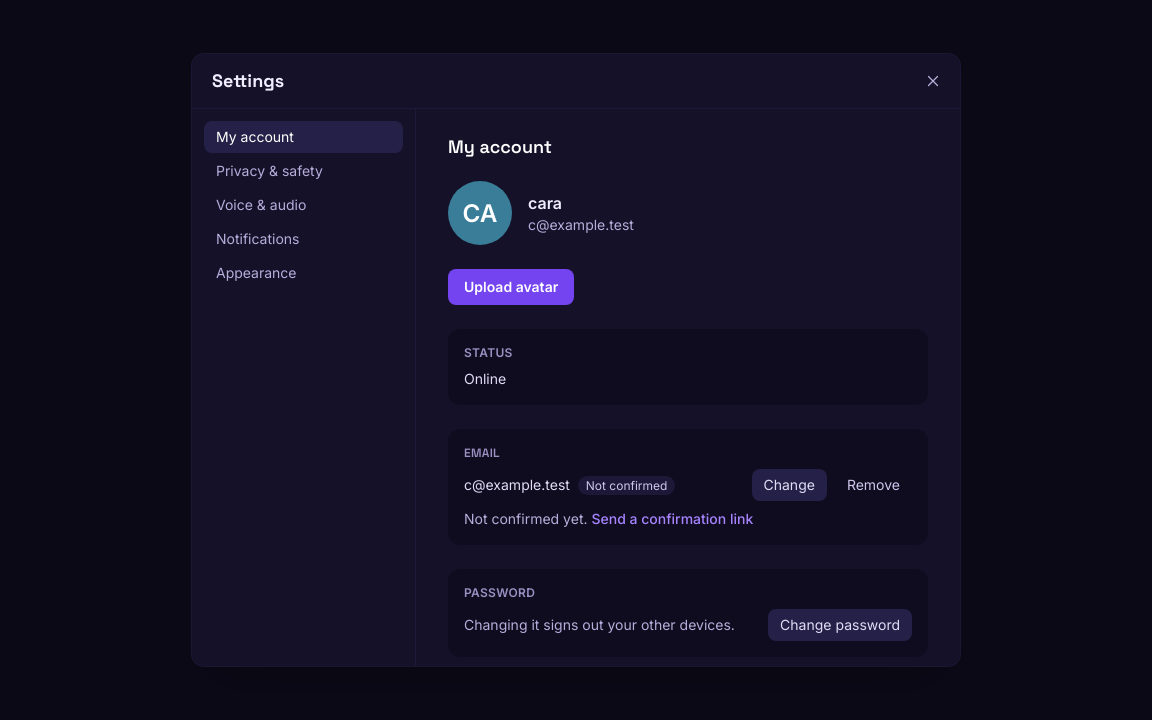
My account has a Change password button that opens the dialog
Expected: the text "Changing it signs out your other devices." is shown, 464,615 -> 756,635
Step 1. Click the button "Change password" → (840, 625), box 768,609 -> 912,641
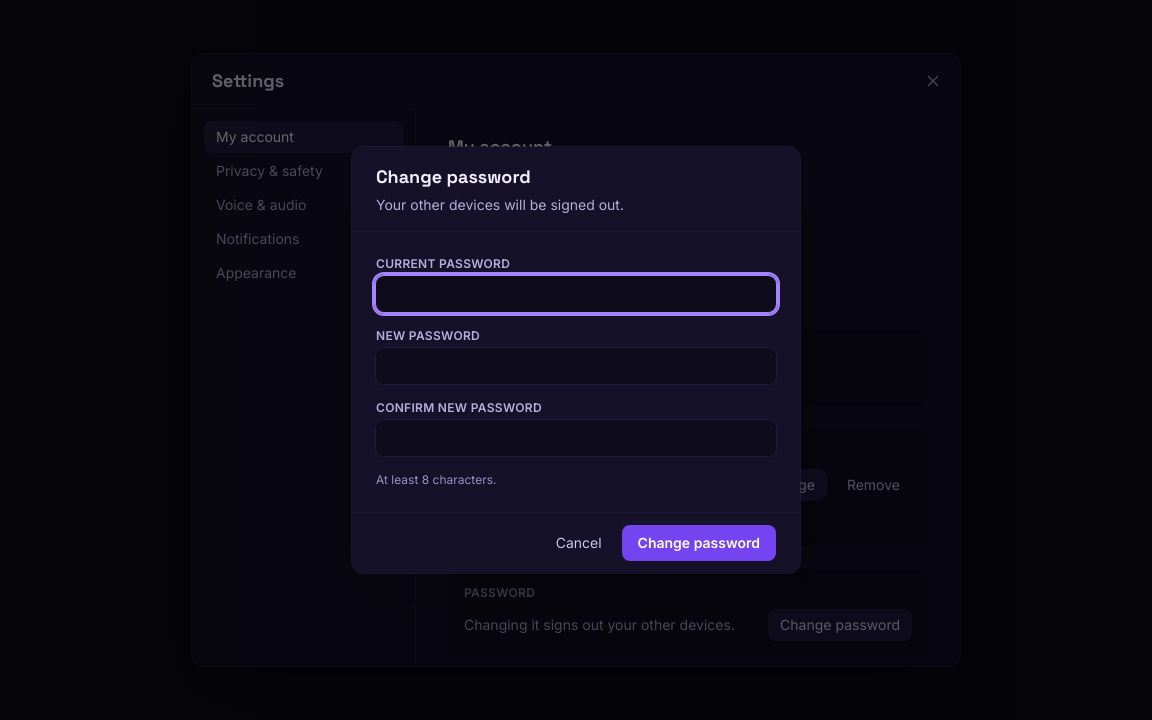
Expected: the dialog "Change password" is shown, 352,147 -> 800,573
